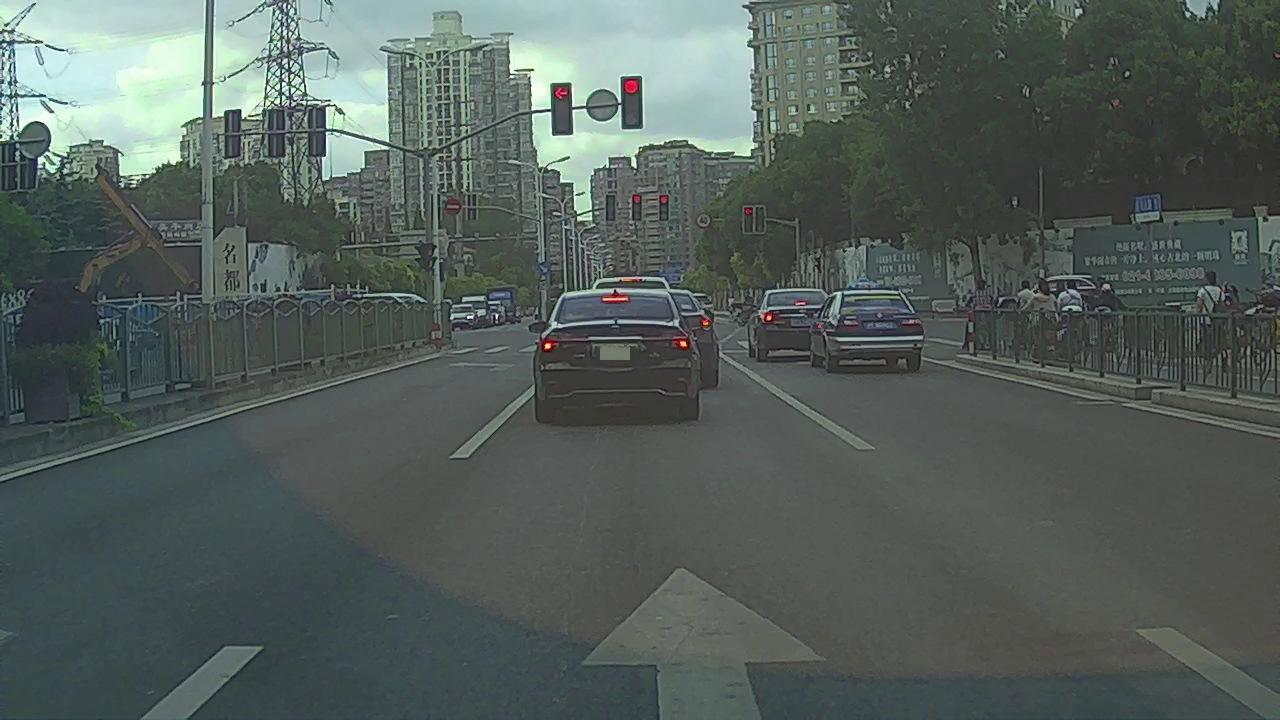traffic_light: (552, 84, 573, 133), (624, 77, 642, 126), (754, 206, 765, 233), (744, 204, 754, 233), (631, 194, 642, 220), (605, 194, 615, 221), (660, 194, 669, 220)
